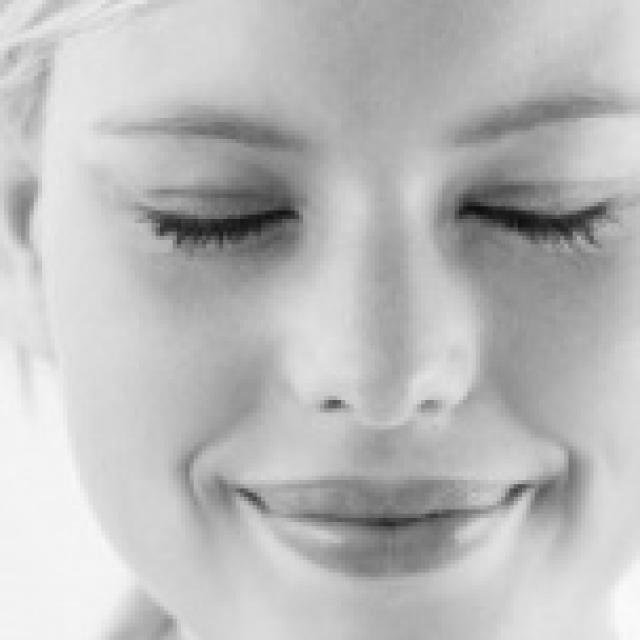real: (39, 0, 640, 640), (112, 148, 630, 299)
